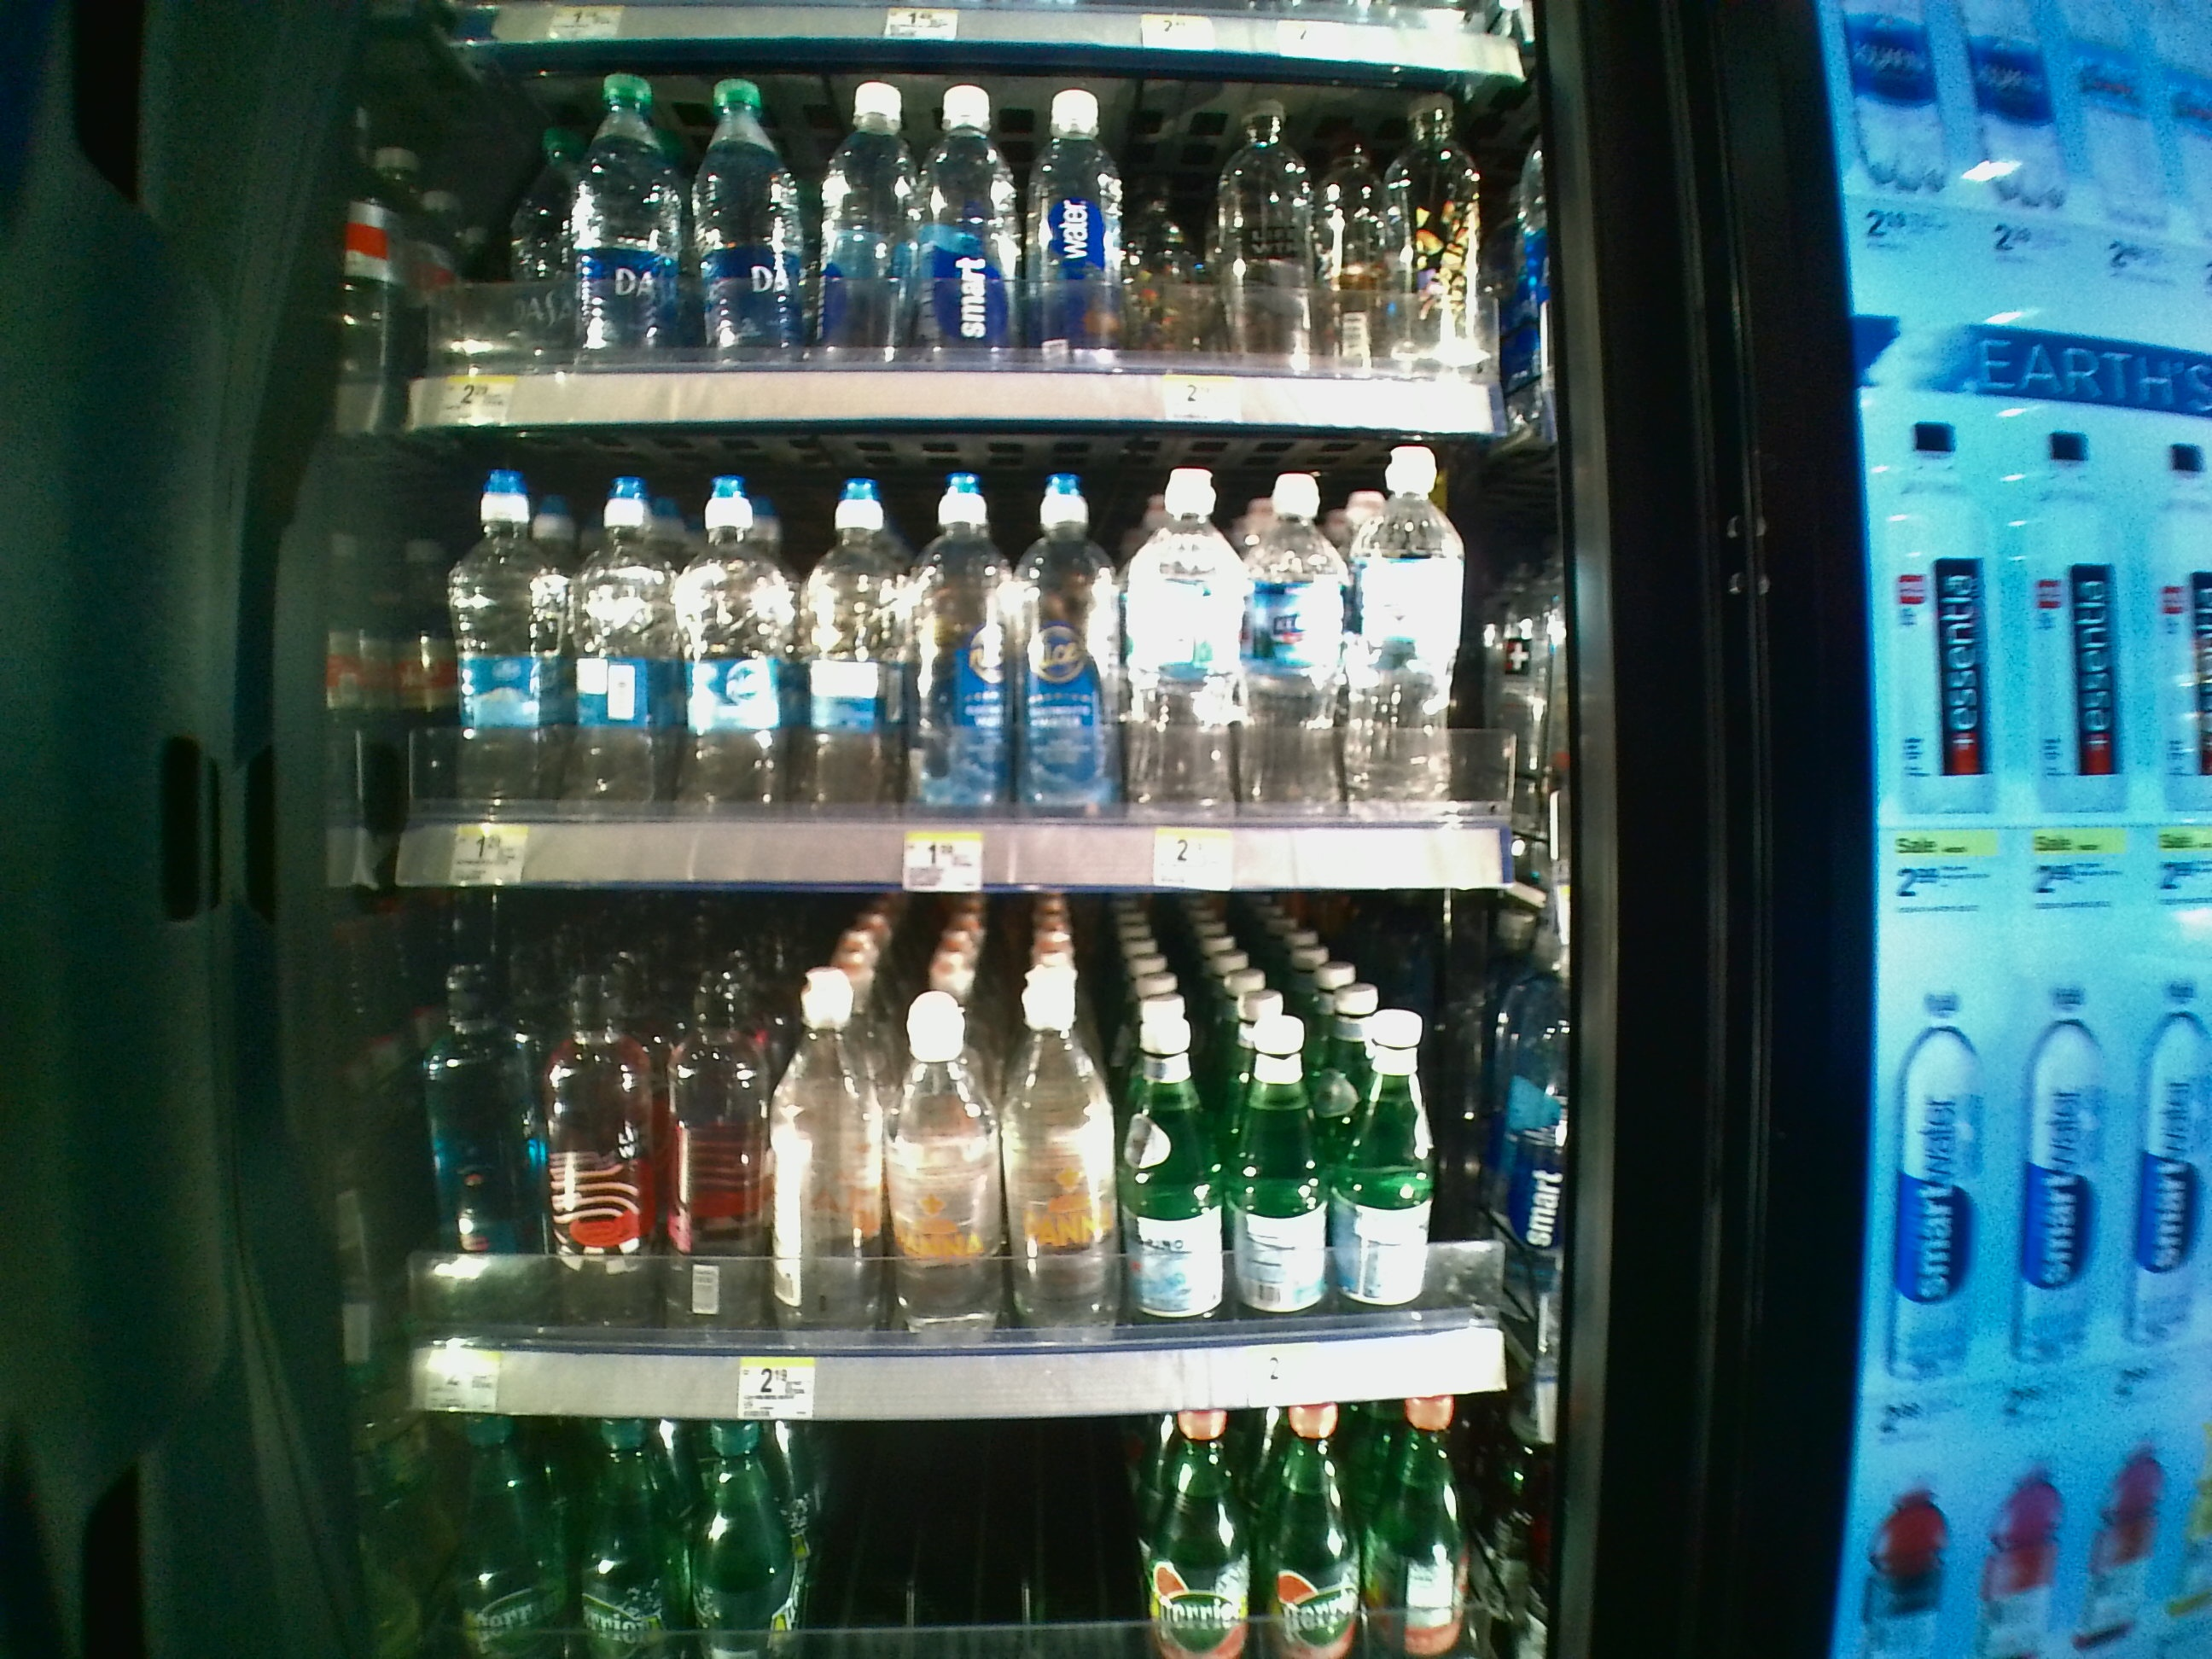shelf: (371, 899, 1564, 1427), (369, 425, 1559, 903)
